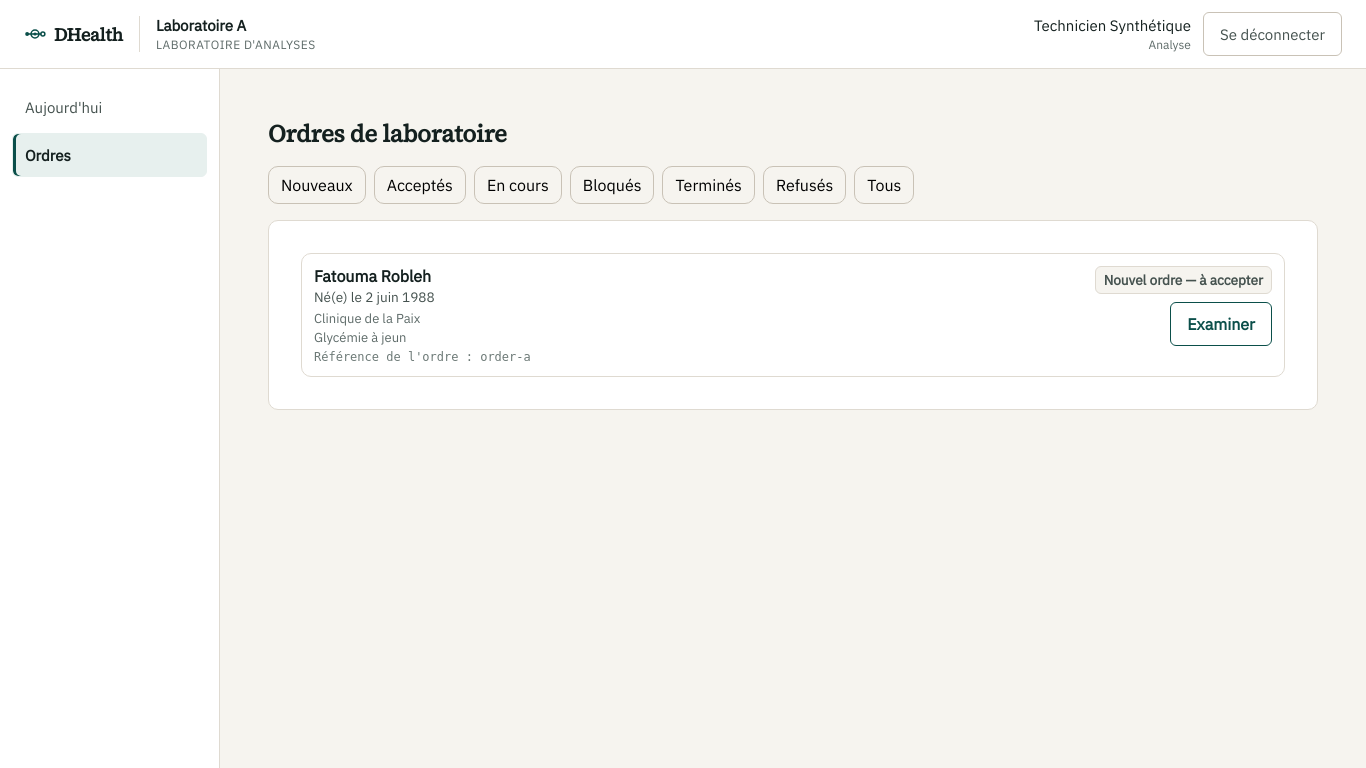
LabOrdersPage › A1/A2: a SELECTED order exposes both Accept and Reject controls
Click the button "Examiner". click: (1221, 324)
box: [1170, 302, 1272, 346]
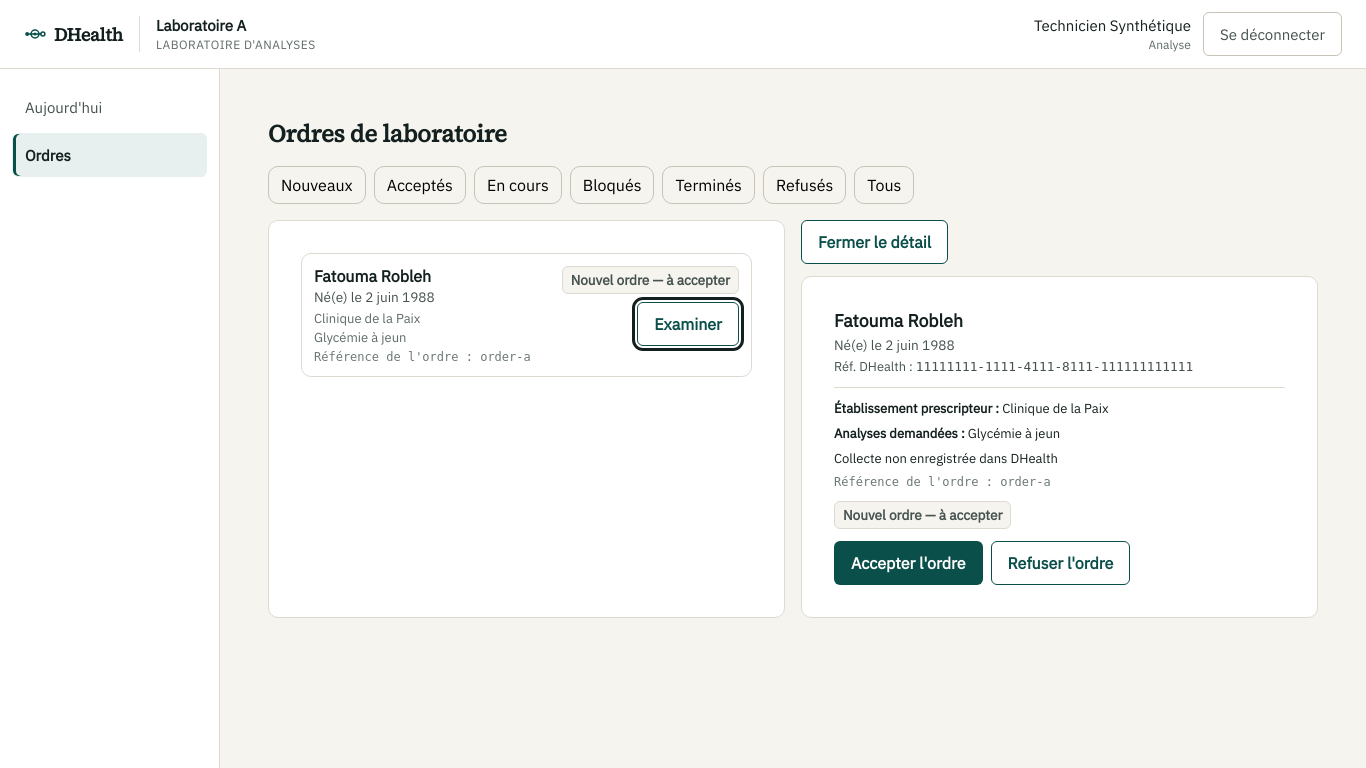
Expected: the button "Accepter l'ordre" is shown, [834, 541, 983, 585]
Expected: the button "Refuser l'ordre" is shown, [991, 541, 1130, 585]
